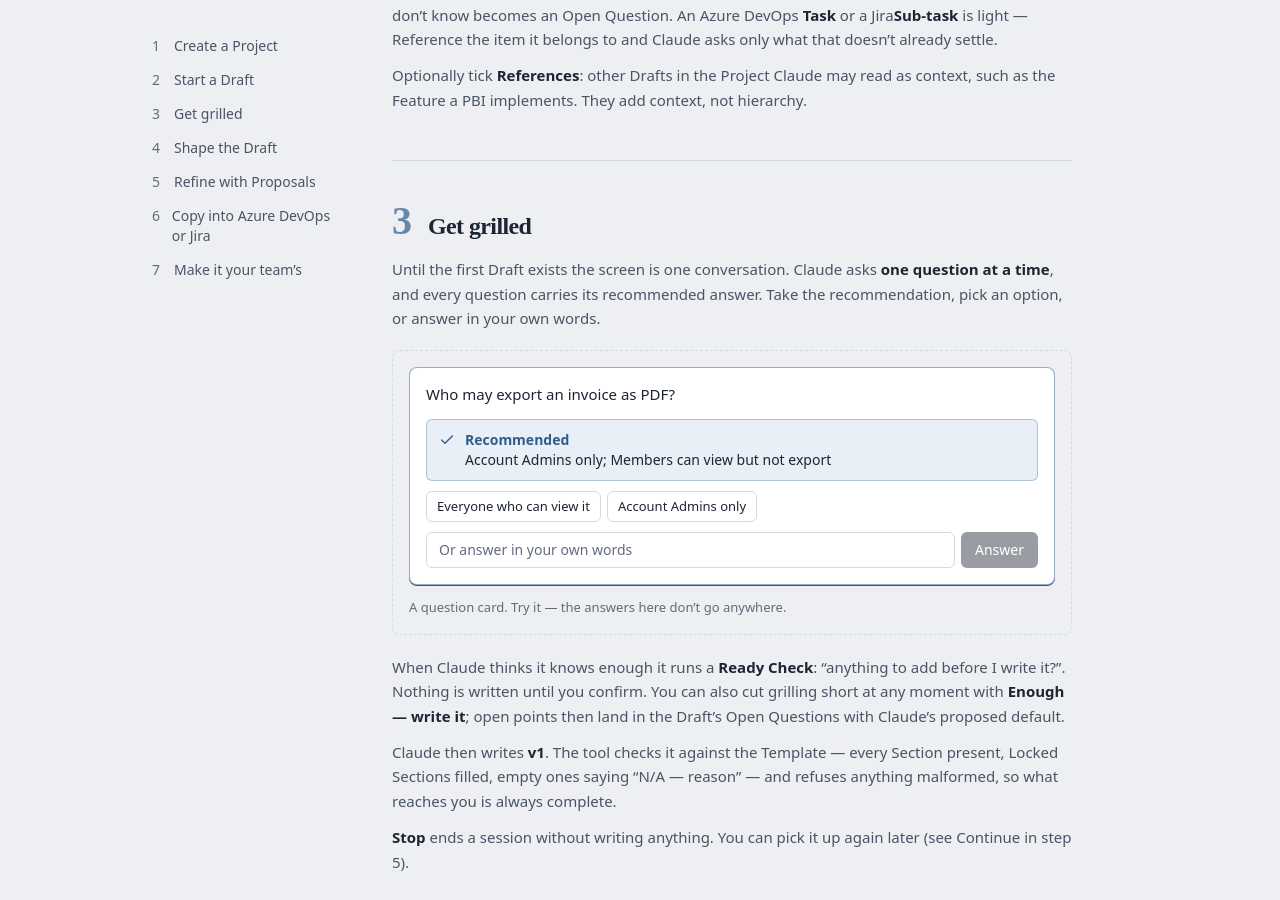
GuidePage › walks through the steps with live examples that go nowhere
The width and height of the screenshot is (1280, 900).
(page scrolled)
Expected: the navigation bar named "Steps" is shown, 152,36 -> 330,279
Click the button "Recommended": (732, 450) 426,419 -> 1038,481
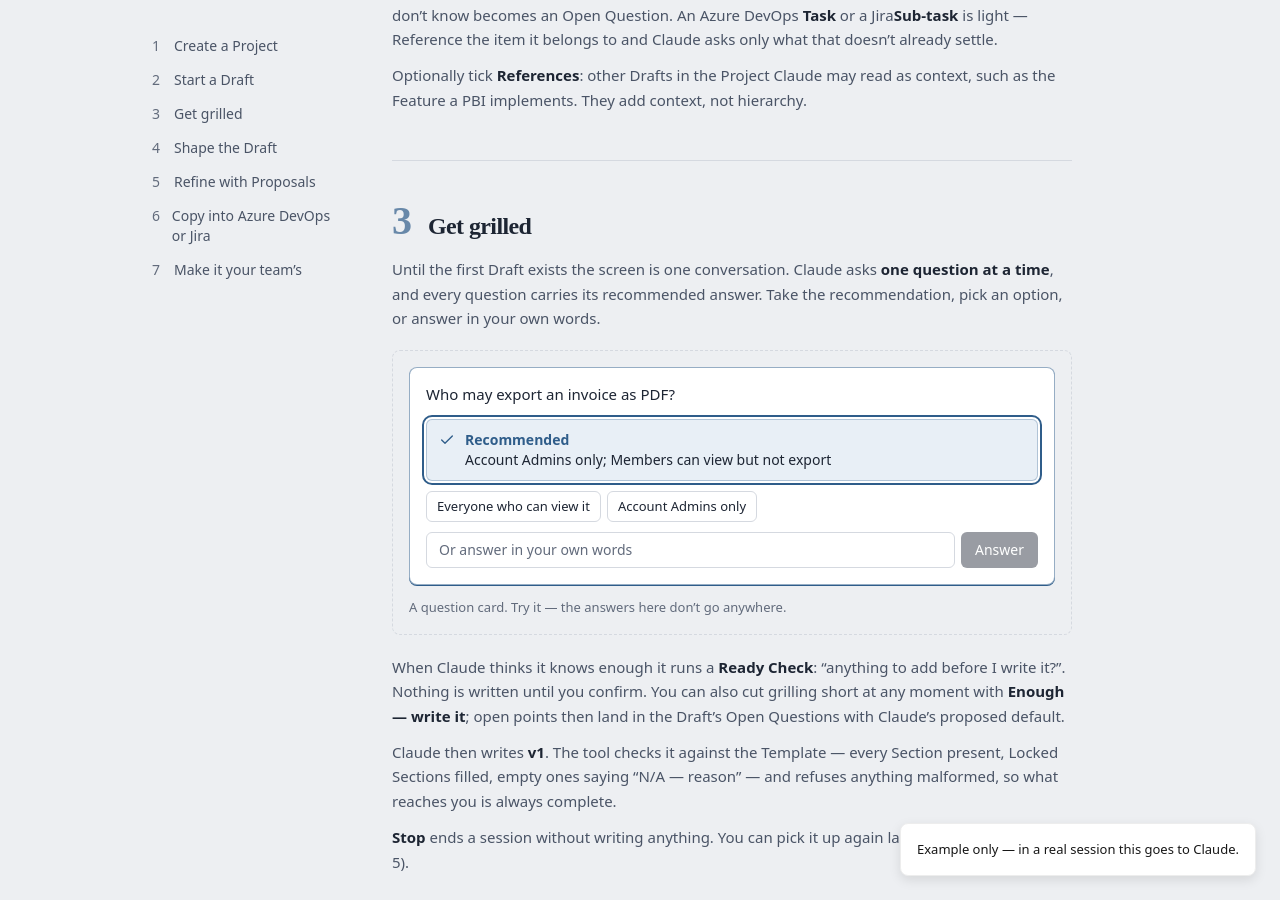
Expected: the text "Example only — in a real session this goes to Claude." is shown, 917,840 -> 1239,859
